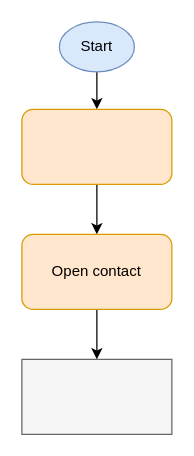
This 194x456 diagram has some shape labels left out. The centre of each missing label's shape, as x and y in pixels:
Create Case: point (96, 396)
Search and open Contact: point (96, 146)
